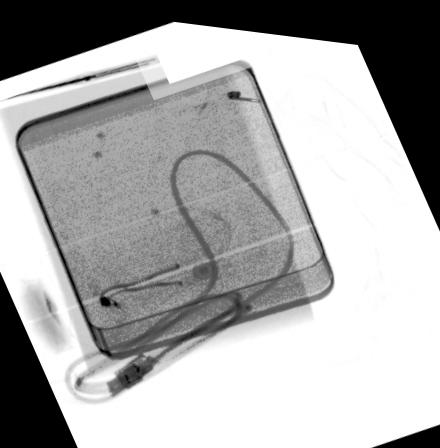Scissors: (0, 46, 163, 99)
